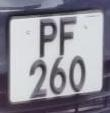0: (65, 51, 92, 94)
2: (27, 56, 51, 102)
6: (49, 54, 69, 96)
F: (57, 13, 80, 60)
P: (36, 15, 60, 62)
